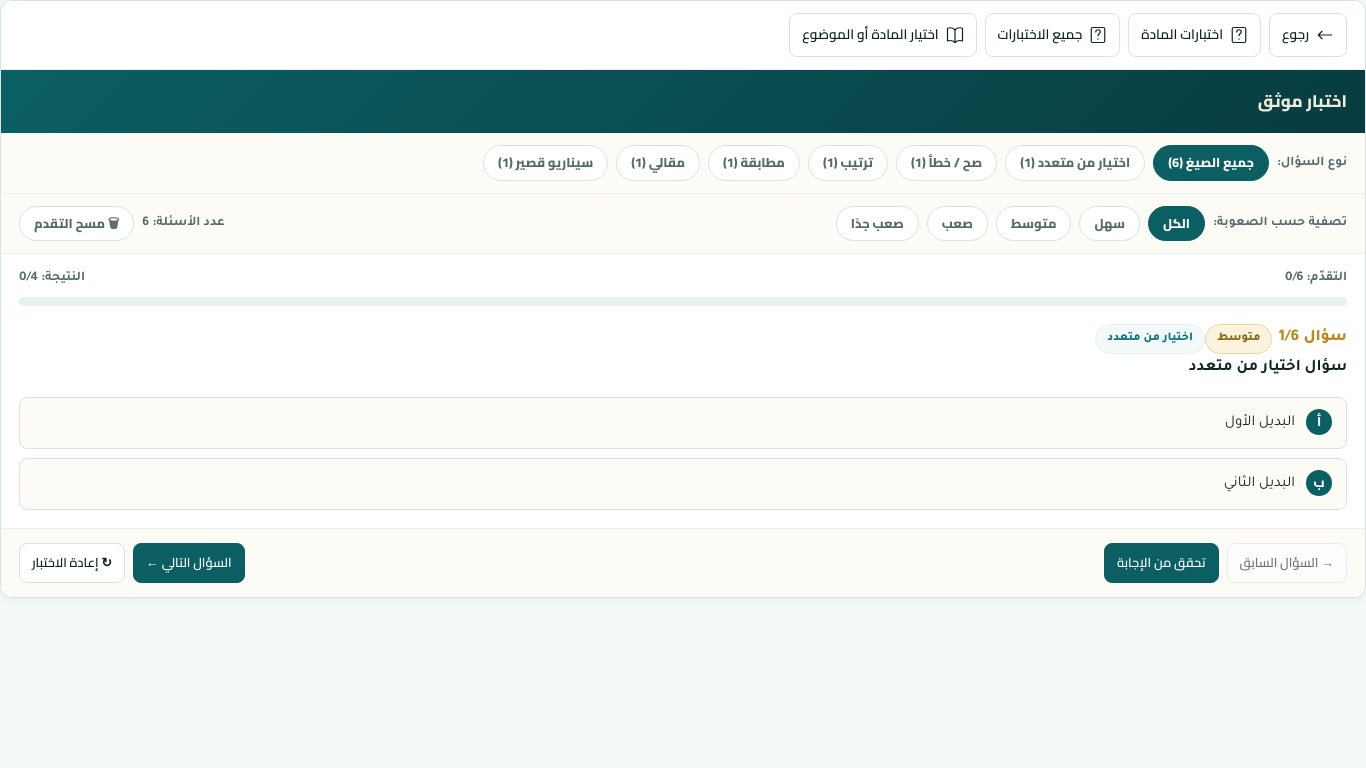
explicit six-format classification › retains written input and ordering changes when moving between format filters
Click the button "مقالي (1)". click: (658, 163)
box: x1=616 y1=145 x2=700 y2=181
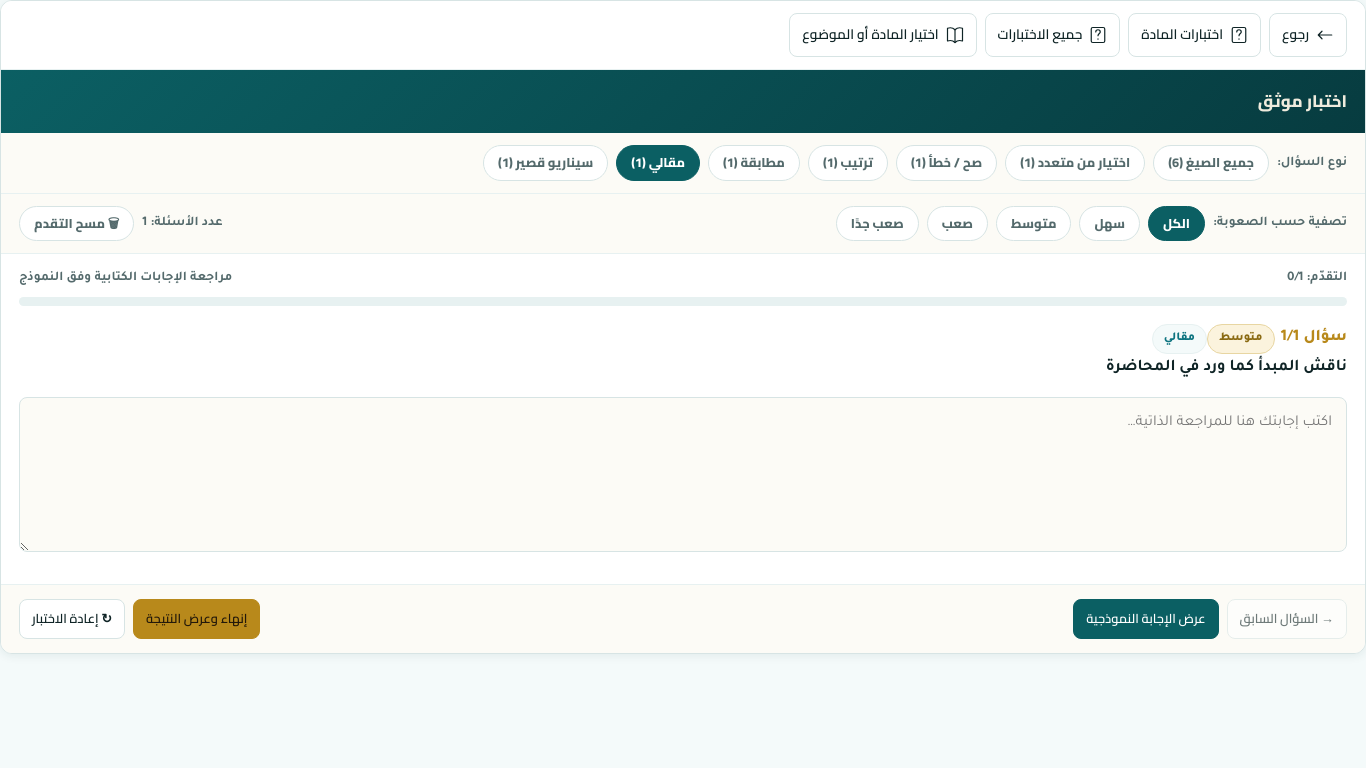
Type "إجابة مبنية على محتوى المحاضرة." into the text box. click: (683, 475)
box: x1=19 y1=397 x2=1347 y2=552
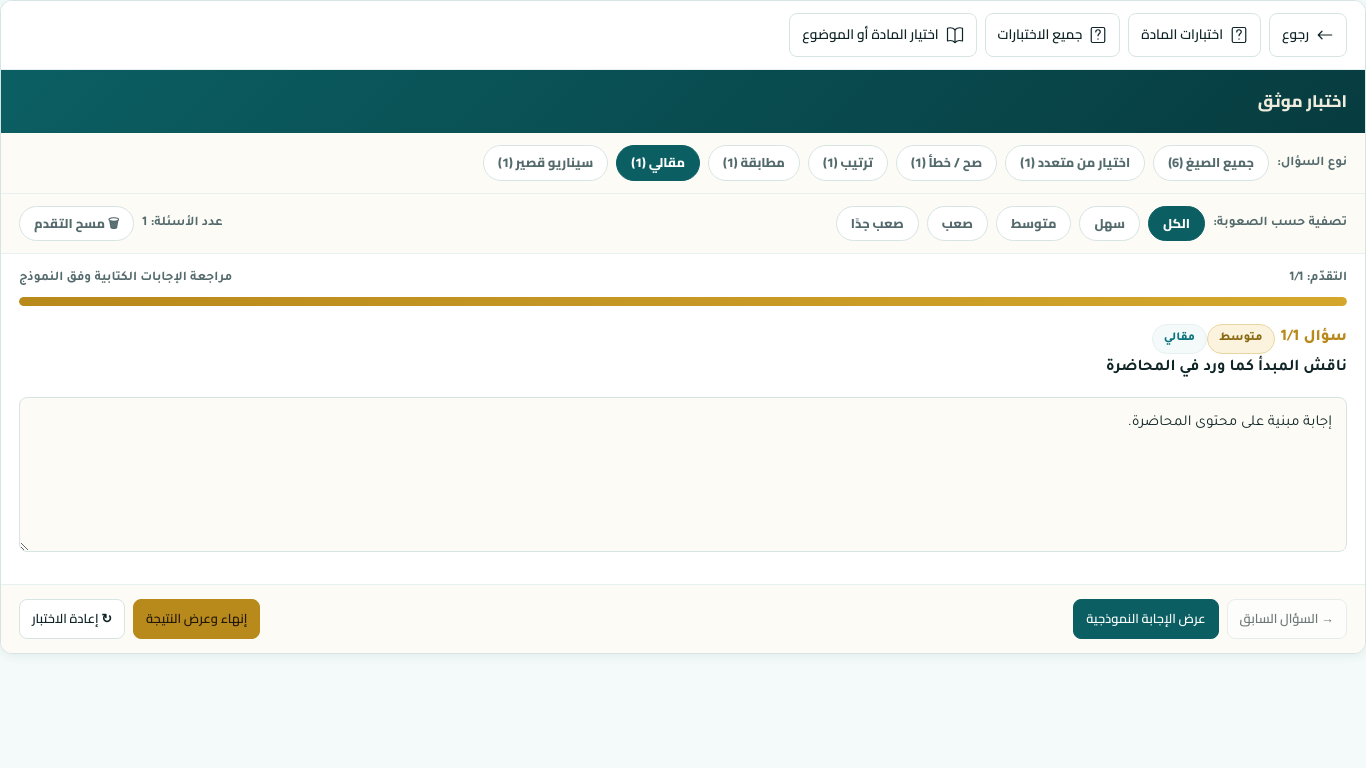
Expected: the text "مراجعة الإجابات الكتابية وفق النموذج" is shown, x1=19 y1=271 x2=232 y2=285
Click the button "ترتيب (1)". click: (848, 163)
box: x1=808 y1=145 x2=888 y2=181
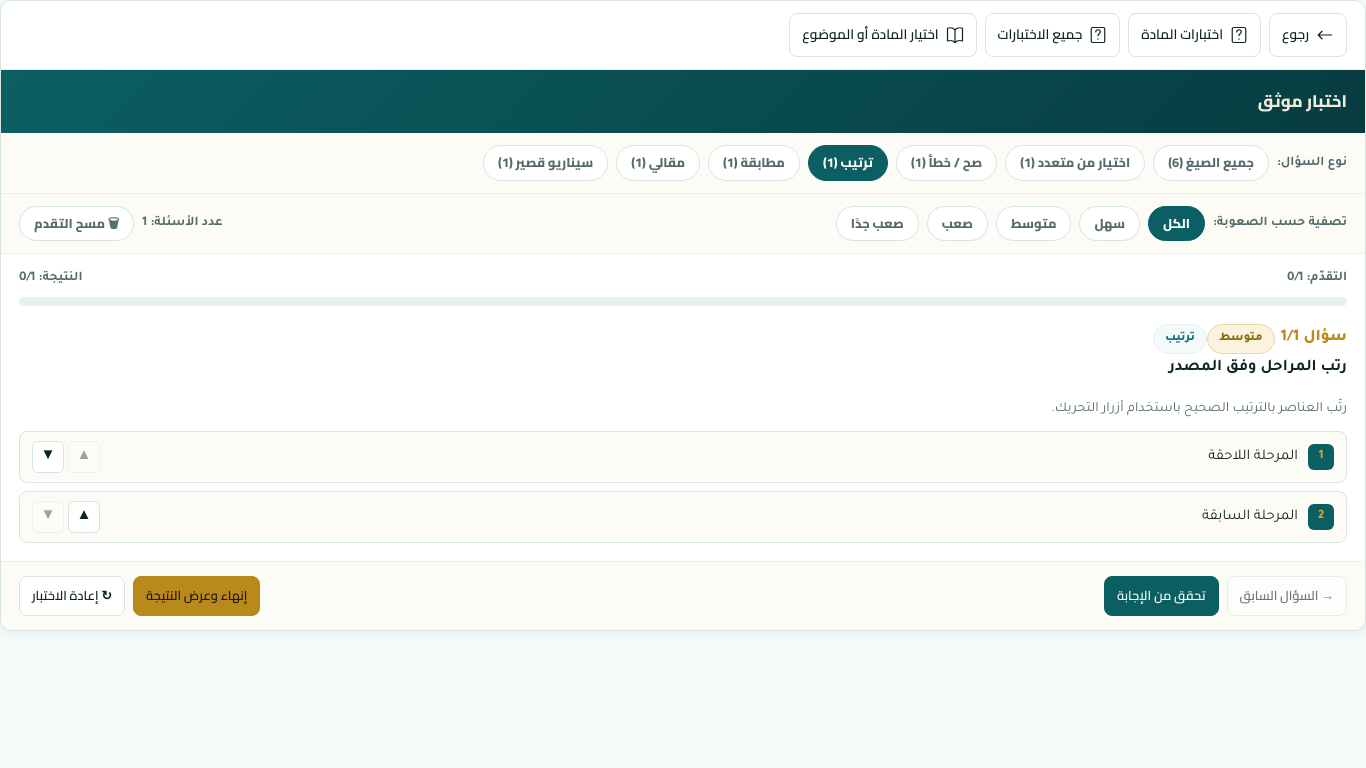
Click the button named "تحريك لأسفل: المرحلة اللاحقة". click: (48, 457)
box: x1=32 y1=441 x2=64 y2=473
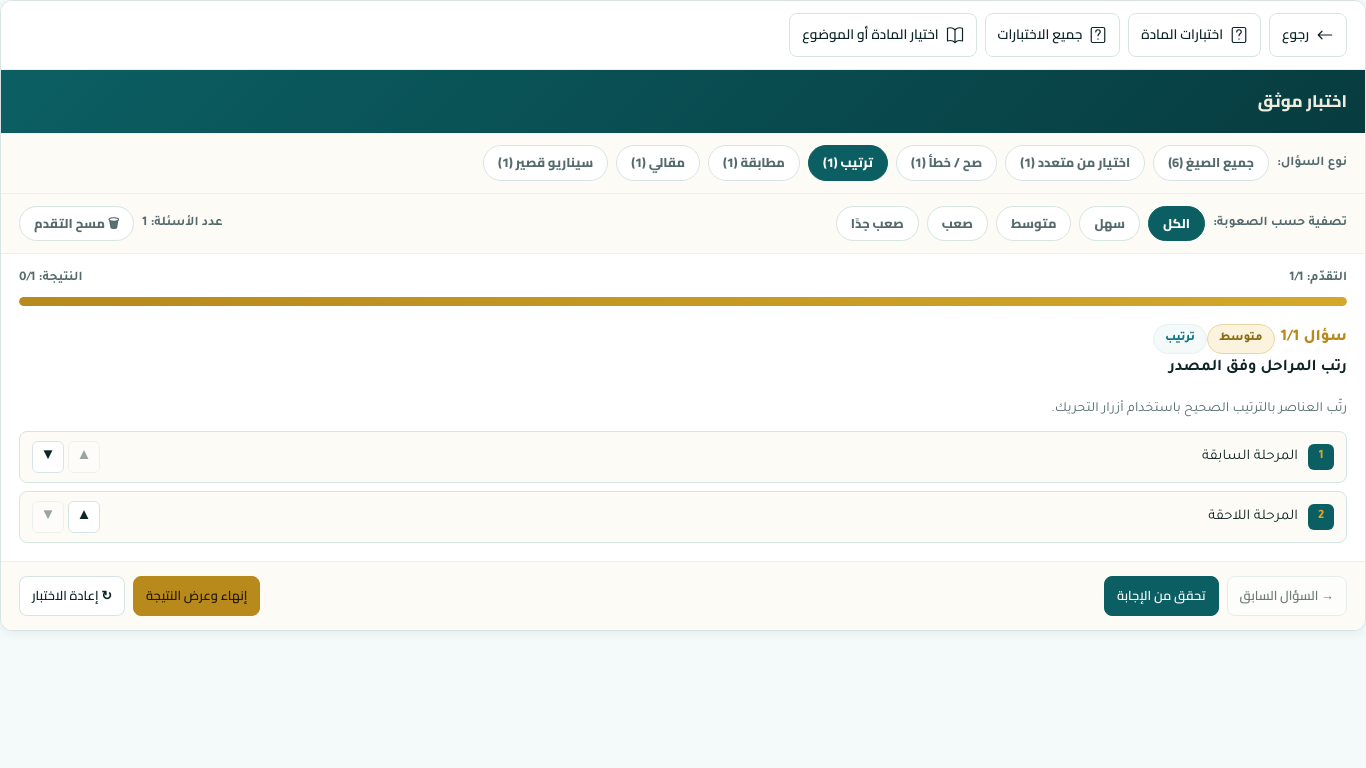
Expected: the list item "1 المرحلة السابقة ▲ ▼" is shown, x1=19 y1=431 x2=1347 y2=483
Click the button "مقالي (1)". click: (658, 163)
box: x1=616 y1=145 x2=700 y2=181
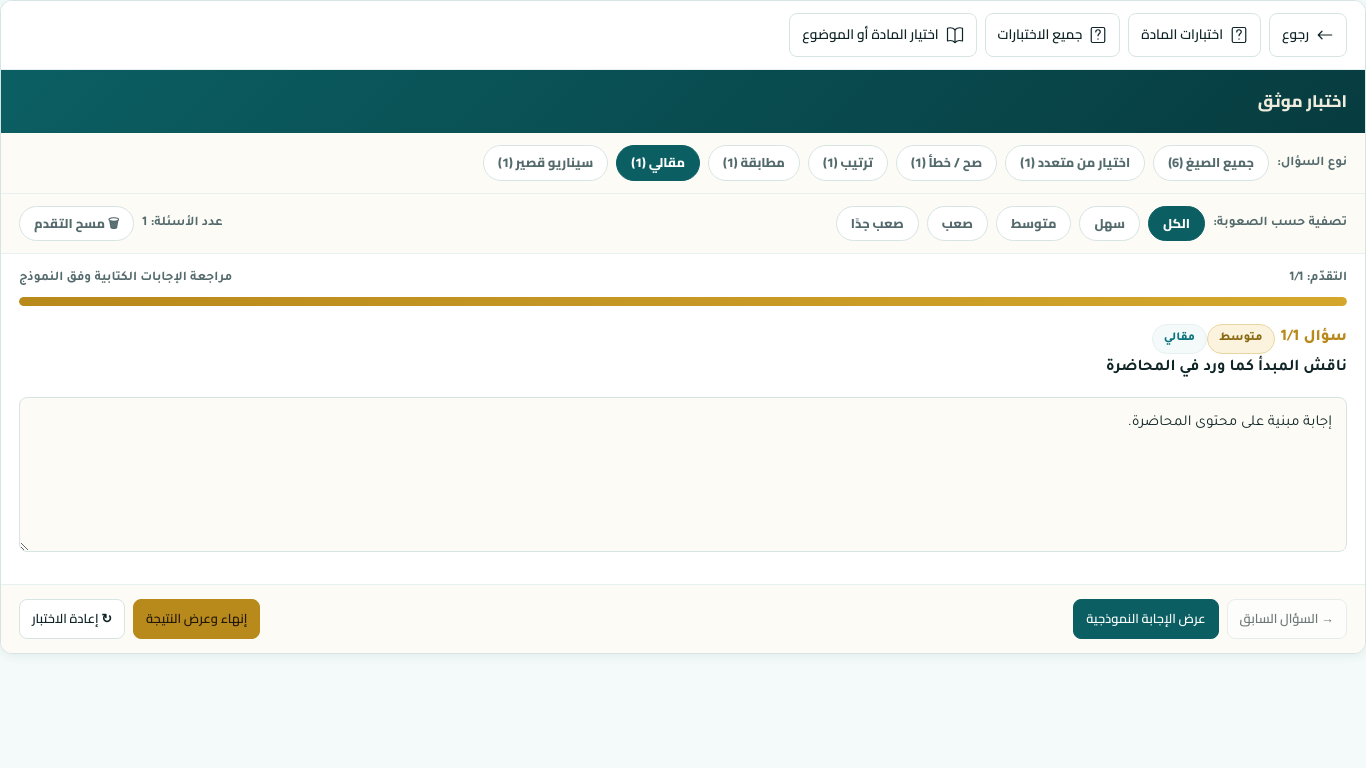
Expected: the text box holds "إجابة مبنية على محتوى المحاضرة.", x1=19 y1=397 x2=1347 y2=552
Click the button "ترتيب (1)". click: (848, 163)
box: x1=808 y1=145 x2=888 y2=181
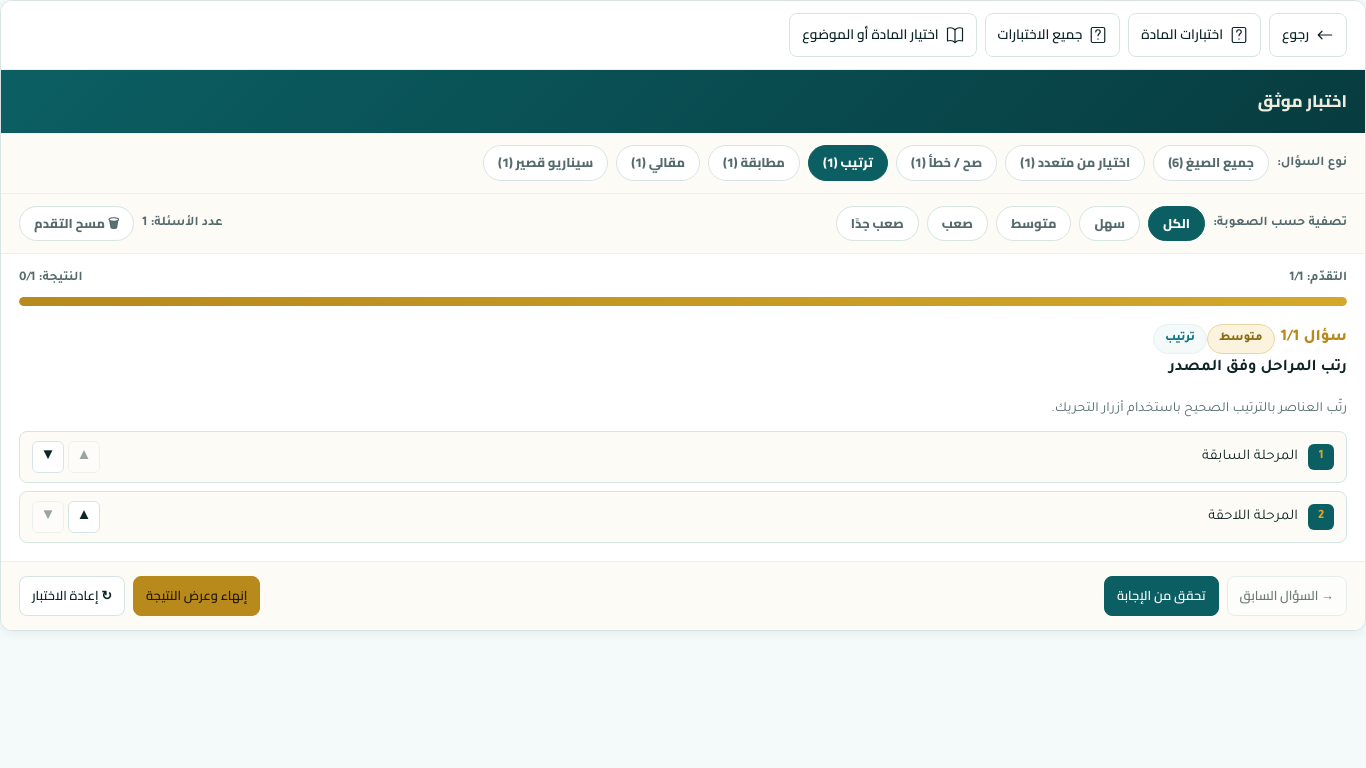
Expected: the list item "1 المرحلة السابقة ▲ ▼" is shown, x1=19 y1=431 x2=1347 y2=483
